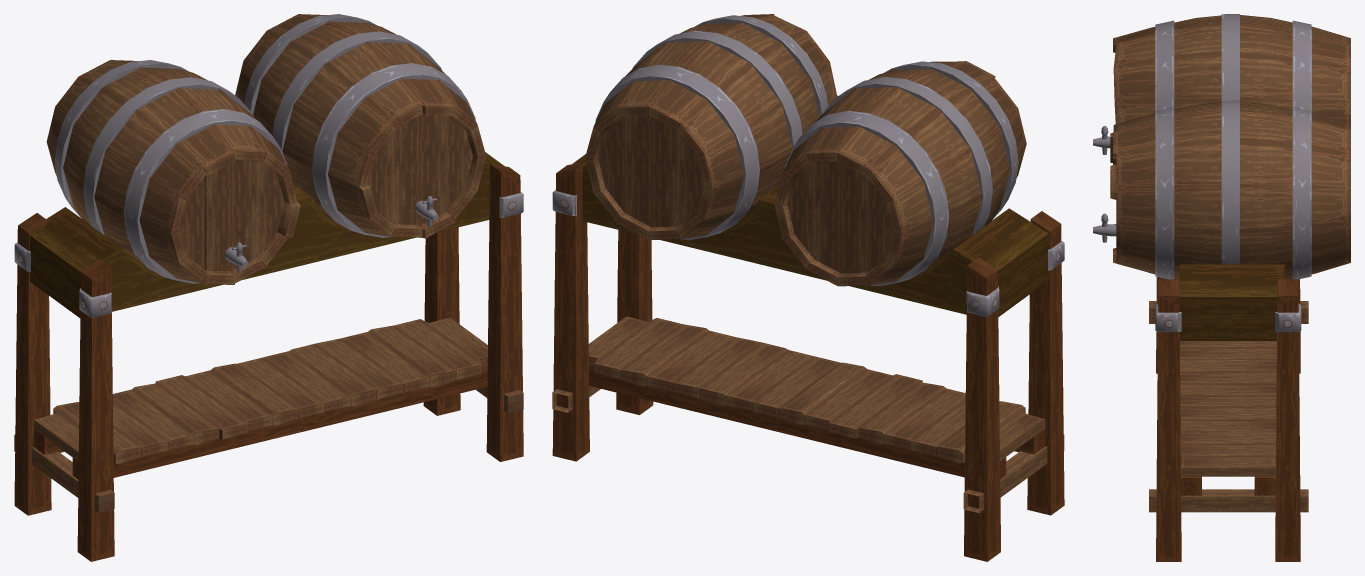
File: Barrel_Holder.gltf
The picture shows the model from 3 angles, left to right: view 1: azimuth 30°, elevation 25°; view 2: azimuth 150°, elevation 25°; view 3: azimuth 270°, elevation 25°; orthographic projection. The views are drawn at different scales.
Parts seen in each view (by area): view 1: Barrel_Holder; view 2: Barrel_Holder; view 3: Barrel_Holder.
Part boxes in pixels (box(x1,y1,x2,y2)): Barrel_Holder: box(14, 14, 523, 561); Barrel_Holder: box(552, 14, 1064, 561); Barrel_Holder: box(1093, 14, 1350, 561).
Bounding box in the file's own units: 1.36 × 1.26 × 0.741.
2 materials, 2 textured.
